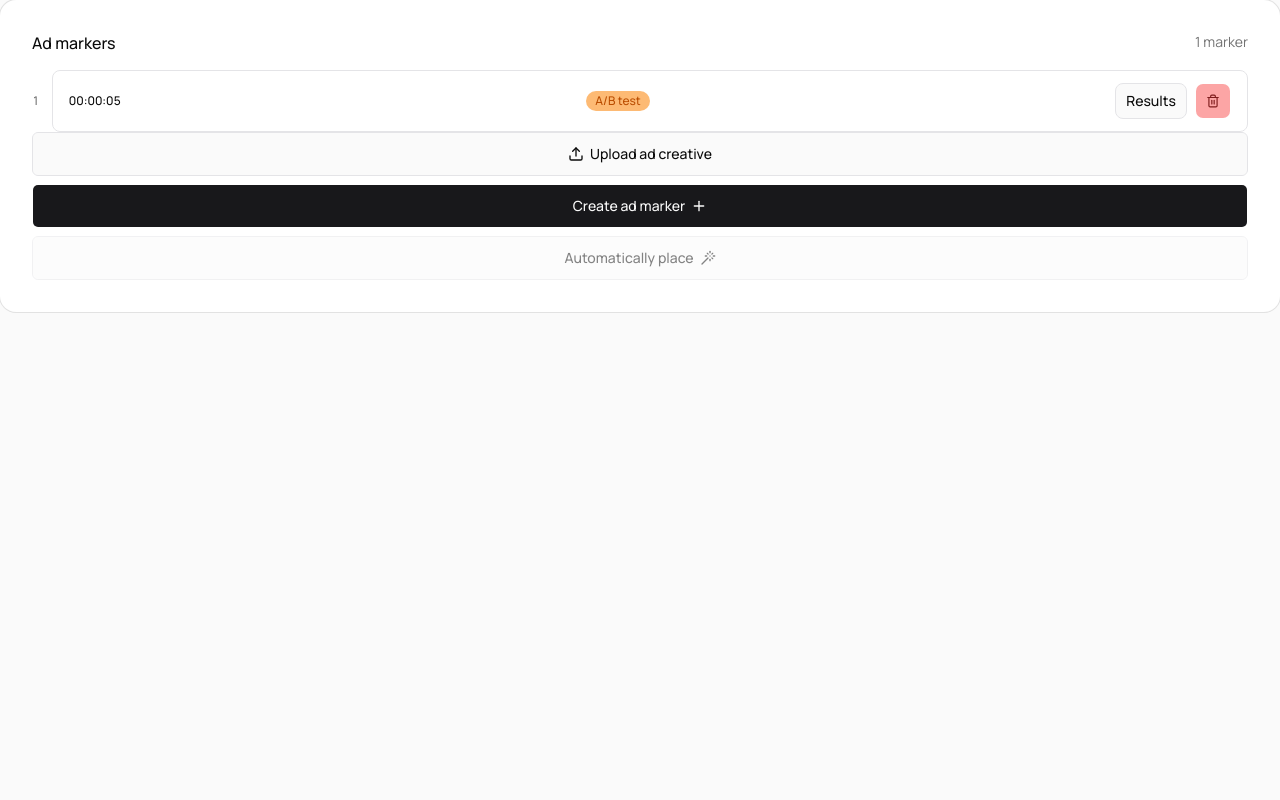
ExperimentResultsDialog via MarkerPanel › shows empty state when marker has no experiment summary
Click the button "Results": (1151, 101) [1115,83,1187,119]
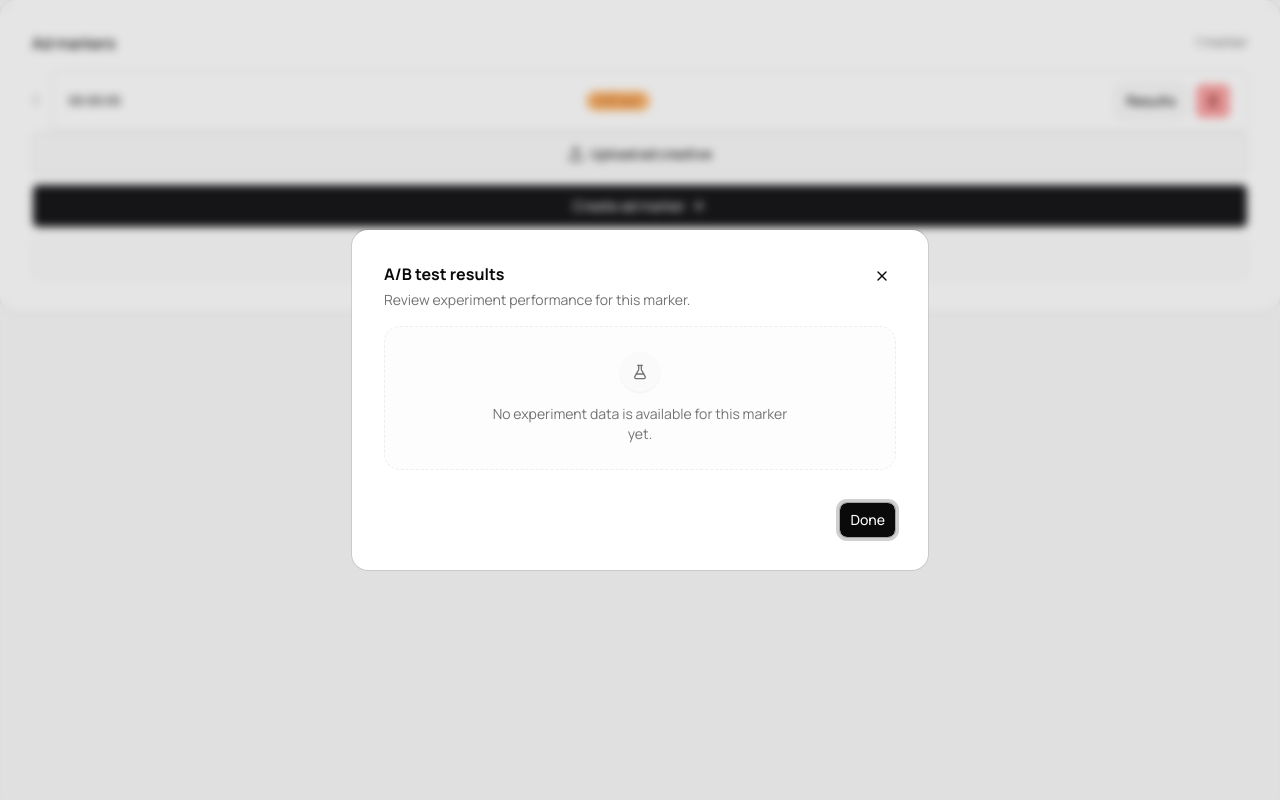
Check: the heading "A/B test results" is shown, box [384,263,504,285]
Check: the text "No experiment data is available for this marker yet." is shown, box [480,404,800,444]
